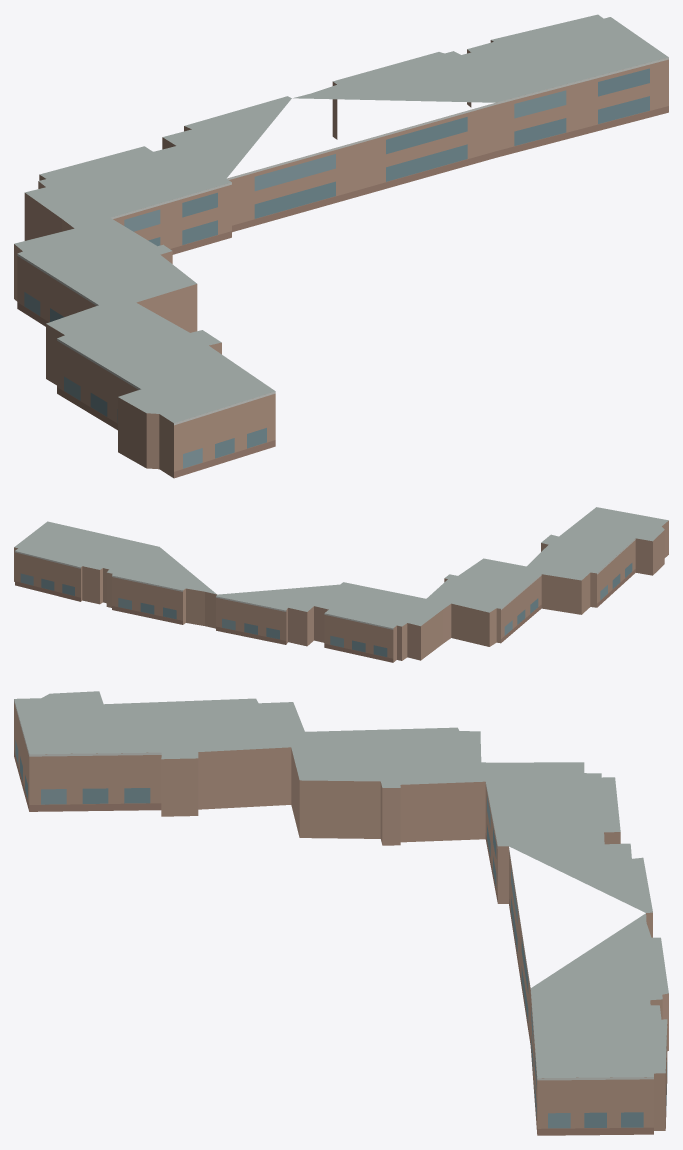
The model's file is survey-upis-32474724.glb.
3 renders of one model, top to bottom at view 1: azimuth 30°, elevation 25°; view 2: azimuth 150°, elevation 25°; view 3: azimuth 270°, elevation 25°, orthographic. The views are drawn at different scales.
Parts seen in each view (by area): view 1: survey-upis-32474724.tmp; view 2: survey-upis-32474724.tmp; view 3: survey-upis-32474724.tmp.
Boxes of the visible parts, box(x1,y1,x2,y2) form: survey-upis-32474724.tmp: box(14, 14, 668, 478); survey-upis-32474724.tmp: box(14, 507, 668, 662); survey-upis-32474724.tmp: box(14, 691, 668, 1135).
Size of the model in its own units: 87.98 by 6.1 by 62.93.
